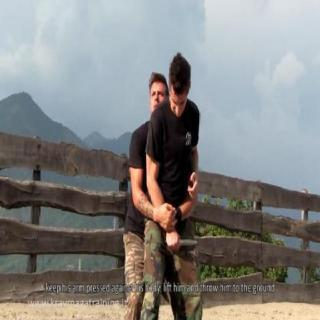knife: (164, 234, 200, 252)
